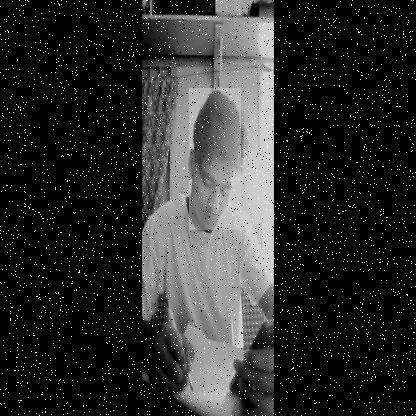Distracted: (189, 88, 241, 230)
